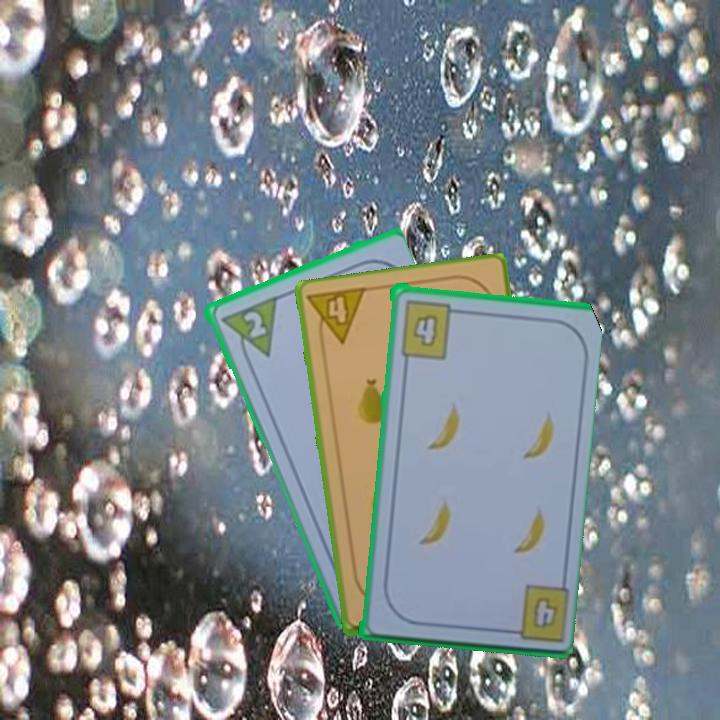2p: (216, 293, 280, 367)
4b: (499, 580, 569, 645), (396, 296, 462, 361)
4p: (304, 284, 369, 352)
